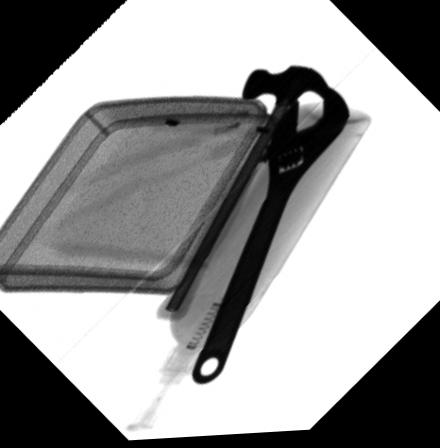Hammer: (153, 69, 331, 324)
Wrench: (192, 88, 348, 386)
